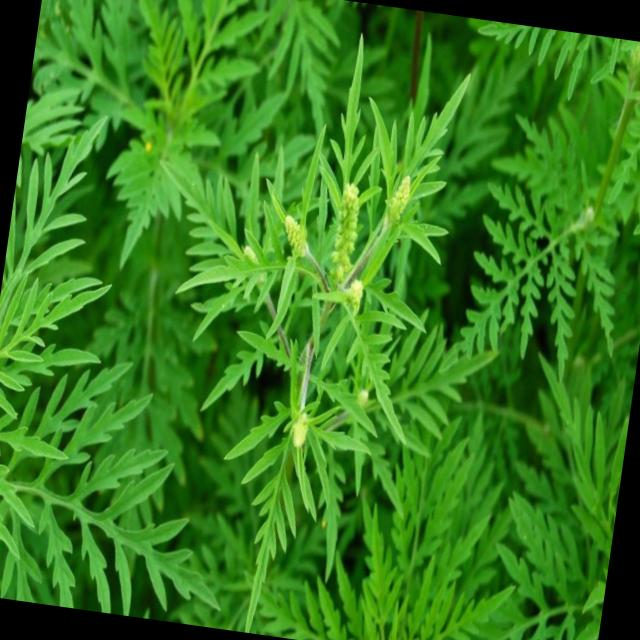ambrosia: (138, 26, 482, 550), (0, 290, 248, 627)
